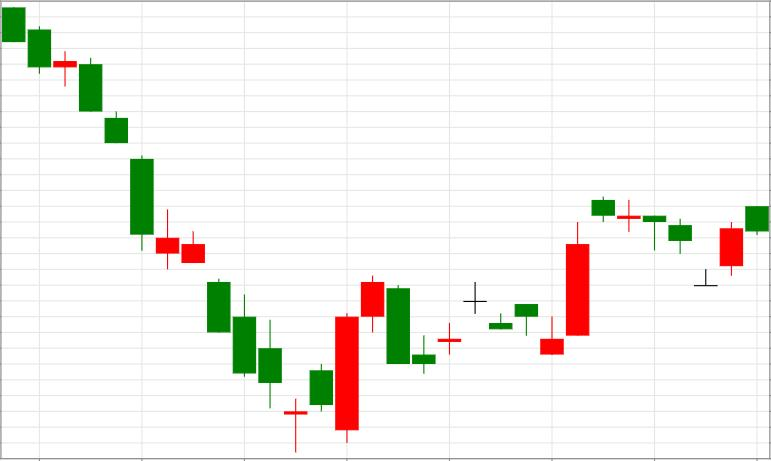bullish_engulfing_rise: (207, 279, 359, 453)
